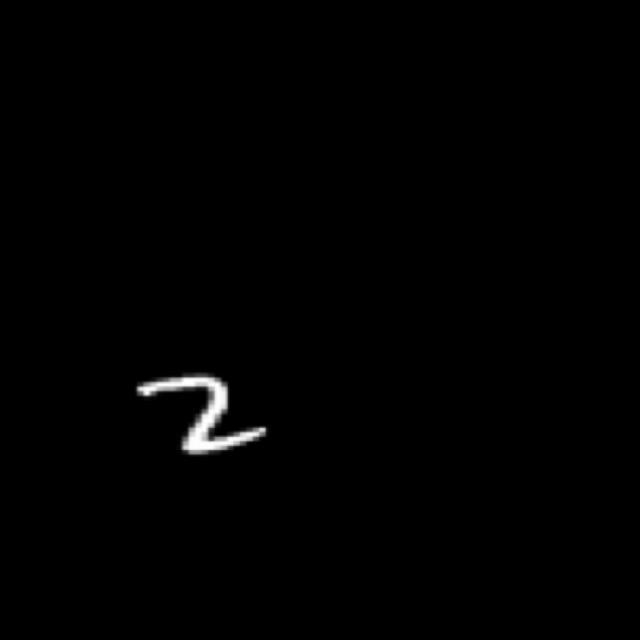two -2-: (119, 375, 288, 458)
